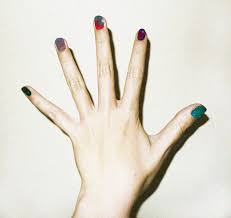hand: (13, 14, 209, 203)
